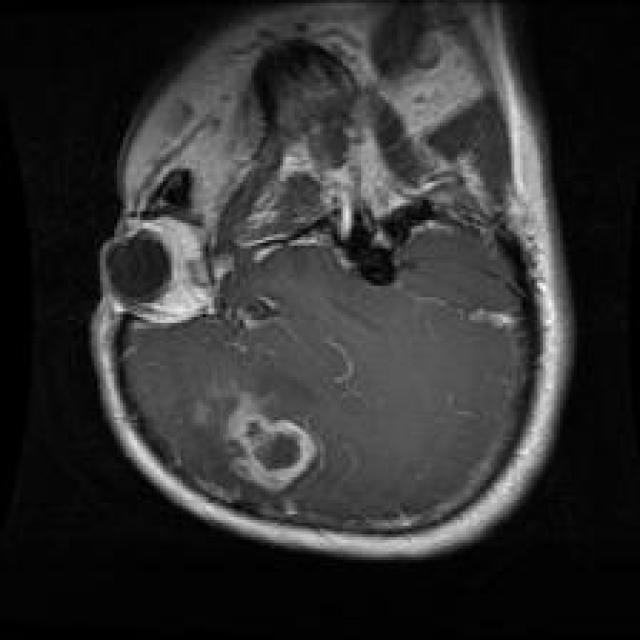glioma_tumor: (199, 388, 354, 516)
